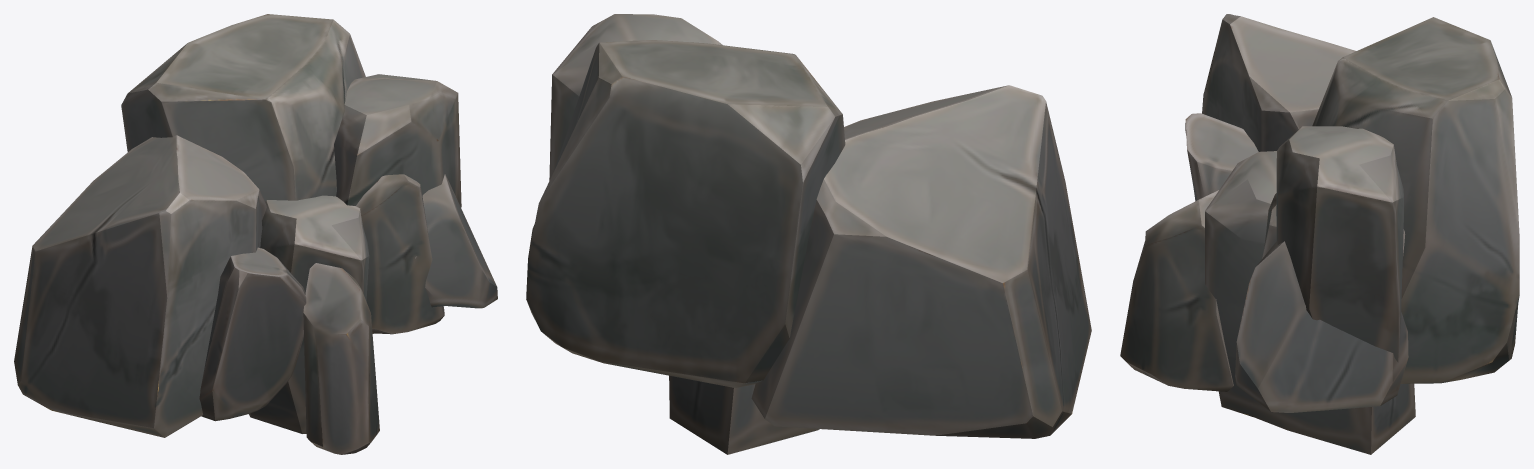
The picture shows the model from 3 angles, left to right: view 1: azimuth 30°, elevation 25°; view 2: azimuth 150°, elevation 25°; view 3: azimuth 270°, elevation 25°; orthographic projection. The views are drawn at different scales.
Visible parts, largest first — view 1: Rocks_form1; view 2: Rocks_form1; view 3: Rocks_form1.
Boxes of the visible parts, x1,y1,x2,y2 form: Rocks_form1: (14,14,497,454); Rocks_form1: (526,14,1091,454); Rocks_form1: (1120,14,1519,454).
Size of the model in its own units: 14.3 by 10.45 by 10.32.
Materials: 2 (2 with a texture image).
